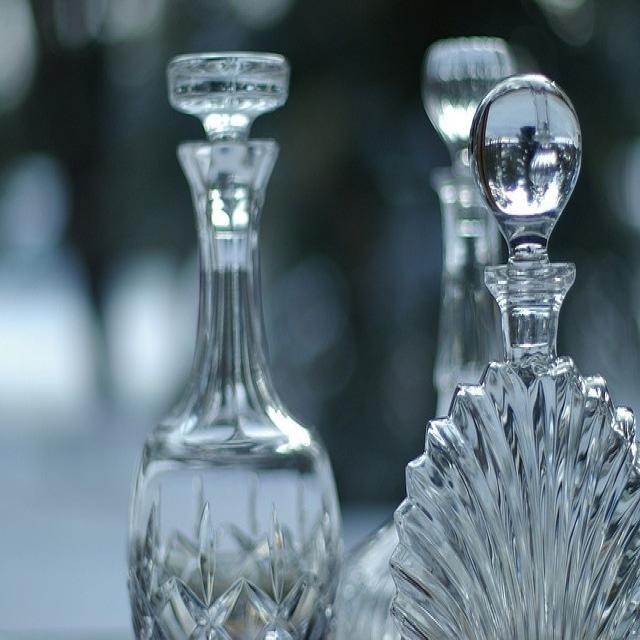Glass: (98, 67, 640, 639)
